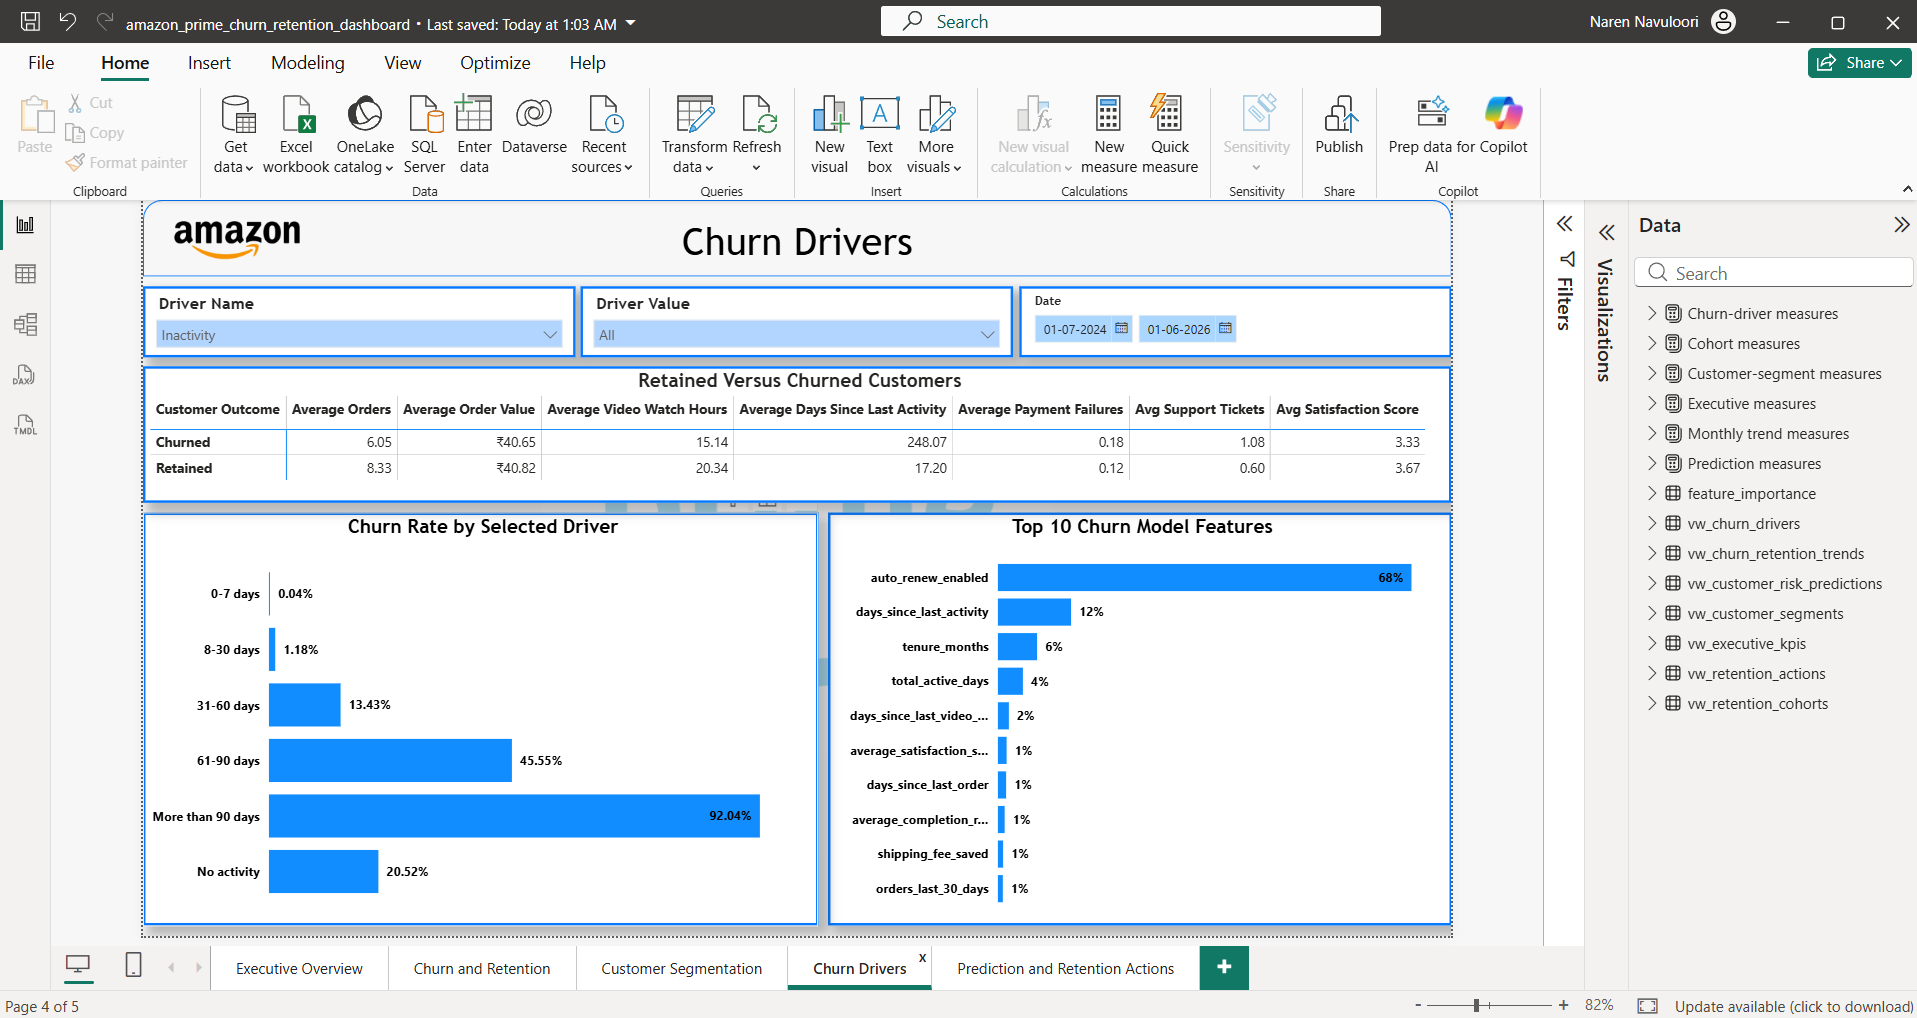

The dashboard page shown, as its layout file describes it:
{"tool":"powerbi","page":{"name":"Churn Drivers","canvas":[1280,720],"ordinal":3},"visuals":[{"type":"shape","box":[0,0,1280.2,74.9],"z":0},{"type":"image","box":[11,17.1,160.2,41.6],"z":1000},{"type":"slicer","fields":{"Values":["vw_churn_drivers.driver_name"]},"box":[0,84.3,423,69.2],"z":1001},{"type":"slicer","fields":{"Values":["vw_churn_drivers.driver_value"]},"box":[428,84.3,423,69.2],"z":1002},{"type":"slicer","fields":{"Values":["vw_churn_retention_trends.month_start"]},"box":[857.3,84.3,423,69.2],"z":1003},{"type":"clusteredBarChart","title":"Top 10 Churn Model Features","fields":{"Category":["feature_importance.feature"],"Y":["Churn-driver measures.Feature Importance %"]},"box":[669.7,305.9,610.5,404.1],"z":1004},{"type":"clusteredBarChart","title":"Churn Rate by Selected Driver","fields":{"Category":["vw_churn_drivers.driver_value"],"Y":["Churn-driver measures.Driver Churn Rate"]},"box":[0,305.9,660.9,404.1],"z":1005},{"type":"pivotTable","title":"Retained Versus Churned Customers","fields":{"Values":["Customer-segment measures.Average Orders","Customer-segment measures.Average Order Value","Customer-segment measures.Average Video Watch Hours","Customer-segment measures.Average Days Since Last Activity","Customer-segment measures.Average Payment Failures","Customer-segment measures.Average Support Tickets","Customer-segment measures.Average Satisfaction Score"],"Rows":["vw_customer_segments.Customer Outcome"]},"box":[0,162.4,1280.3,133.4],"z":1006}]}

Visuals, with their boxes on the page's 1280x720 design canvas (x1, y1, x2, y2). These are canvas units, not pixel positions in the 1917x1018 screenshot, which may show the page scaled, cropped or inside an application window:
shape: 0,0,1280,75
image: 11,17,171,59
slicer - vw_churn_drivers.driver_name: 0,84,423,154
slicer - vw_churn_drivers.driver_value: 428,84,851,154
slicer - vw_churn_retention_trends.month_start: 857,84,1280,154
"Top 10 Churn Model Features" clusteredBarChart: 670,306,1280,710
"Churn Rate by Selected Driver" clusteredBarChart: 0,306,661,710
"Retained Versus Churned Customers" pivotTable: 0,162,1280,296
